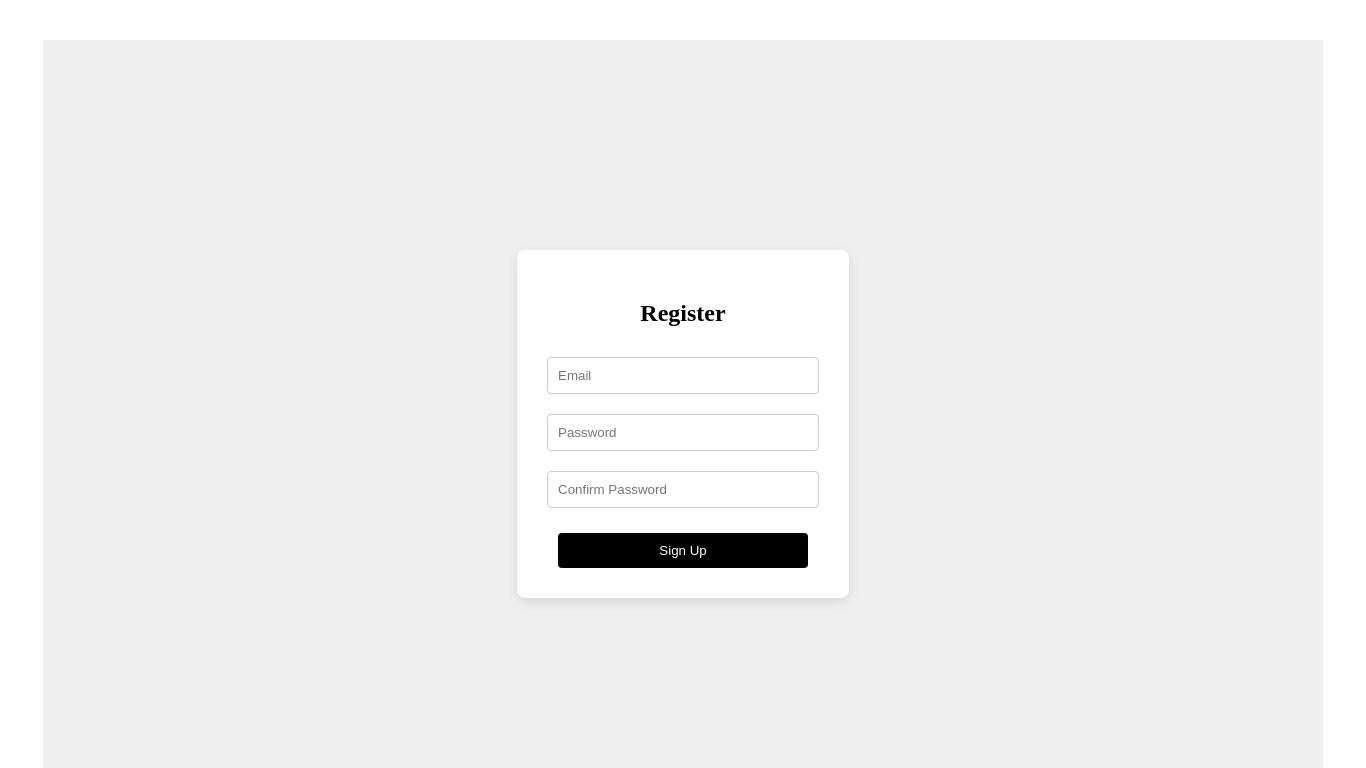
Test: Register Component › displays error message for server error
The image size is (1366, 768).
In the field with placeholder "Email": (683, 376) [547,357,819,394], type "existing@example.com"
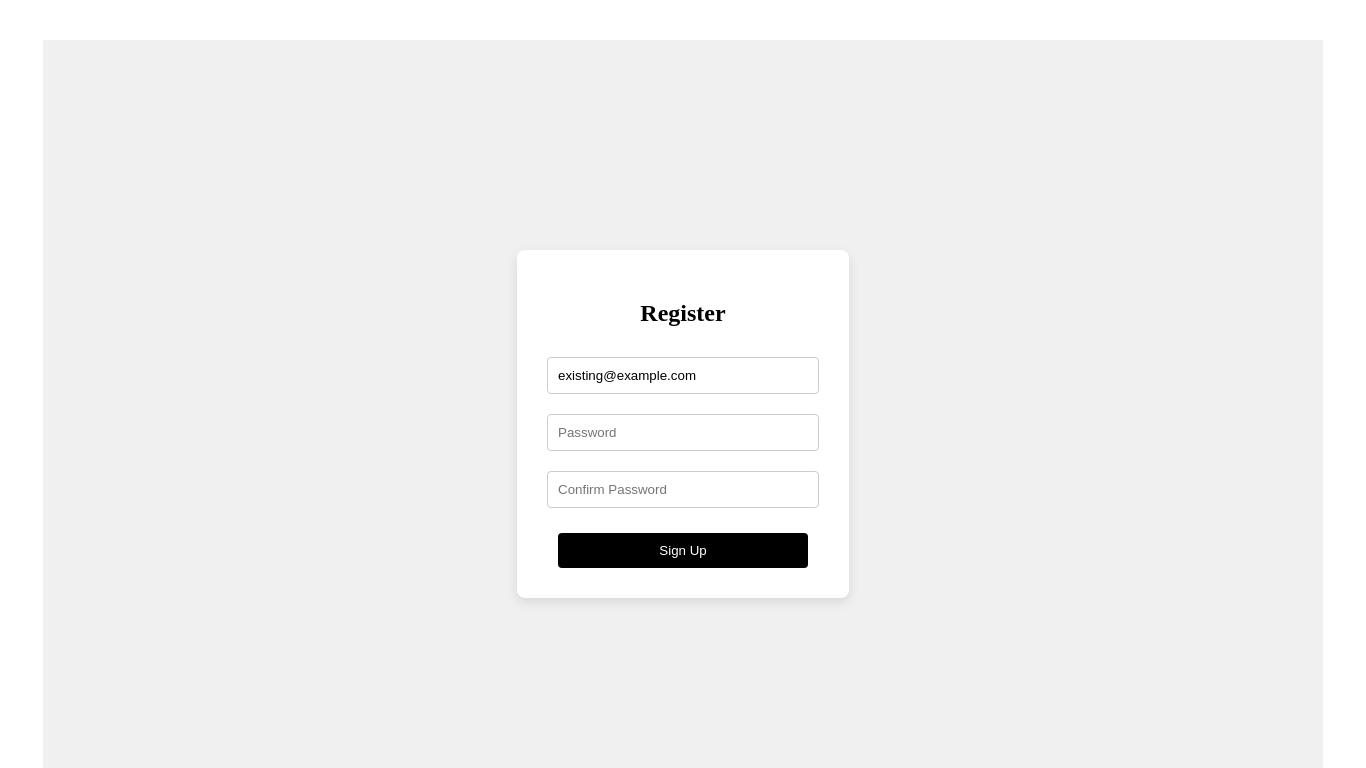
In the password field with placeholder "Password": (683, 432) [547,414,819,451], type "password123"
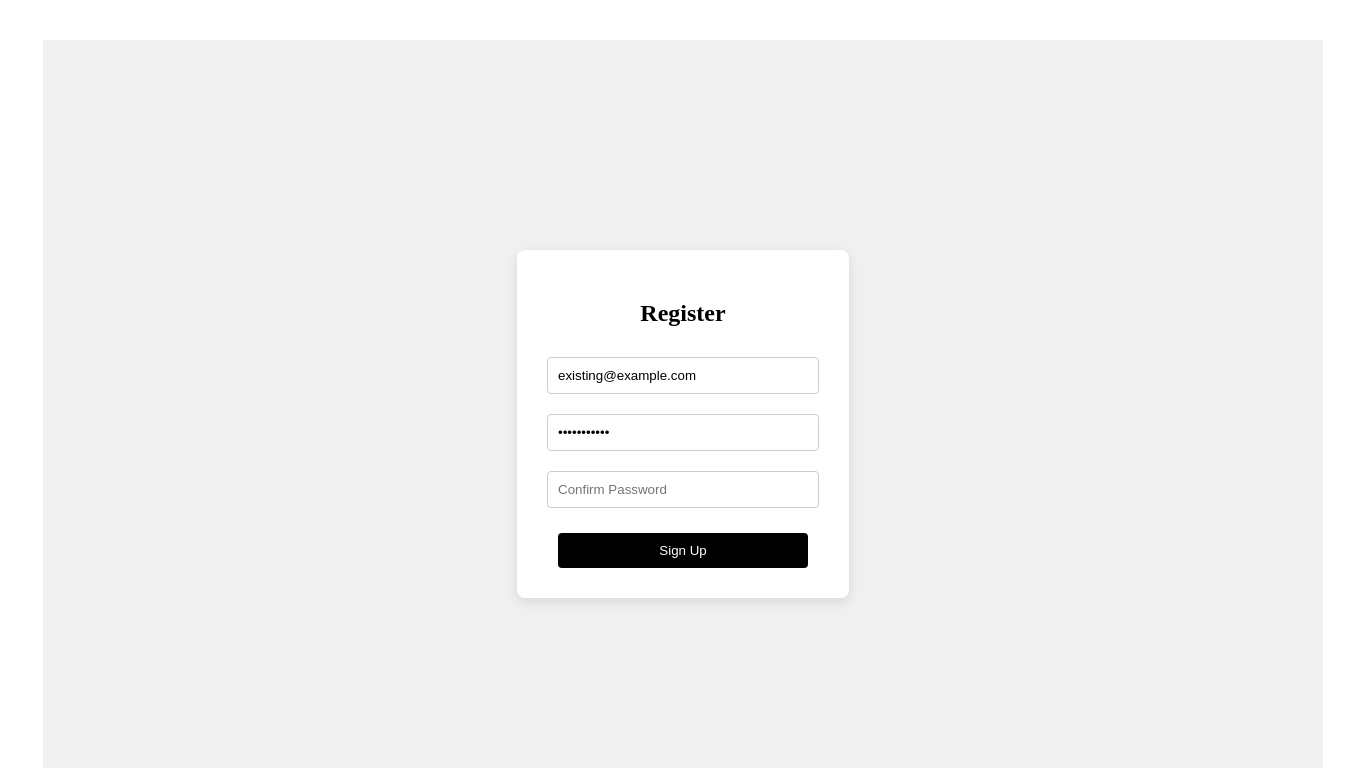
In the password field with placeholder "Confirm Password": (683, 490) [547,471,819,508], type "password123"
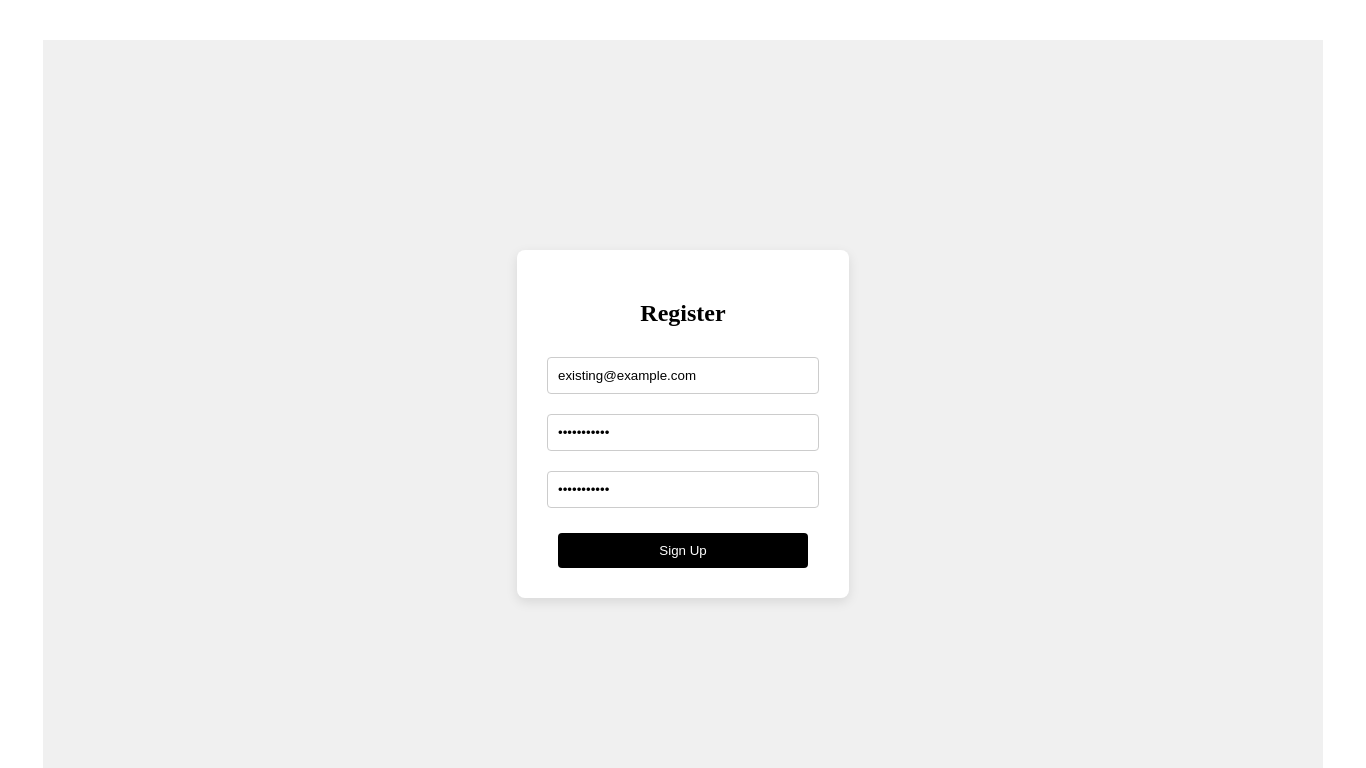
Click the button "Sign Up": (683, 550) [558,533,808,568]
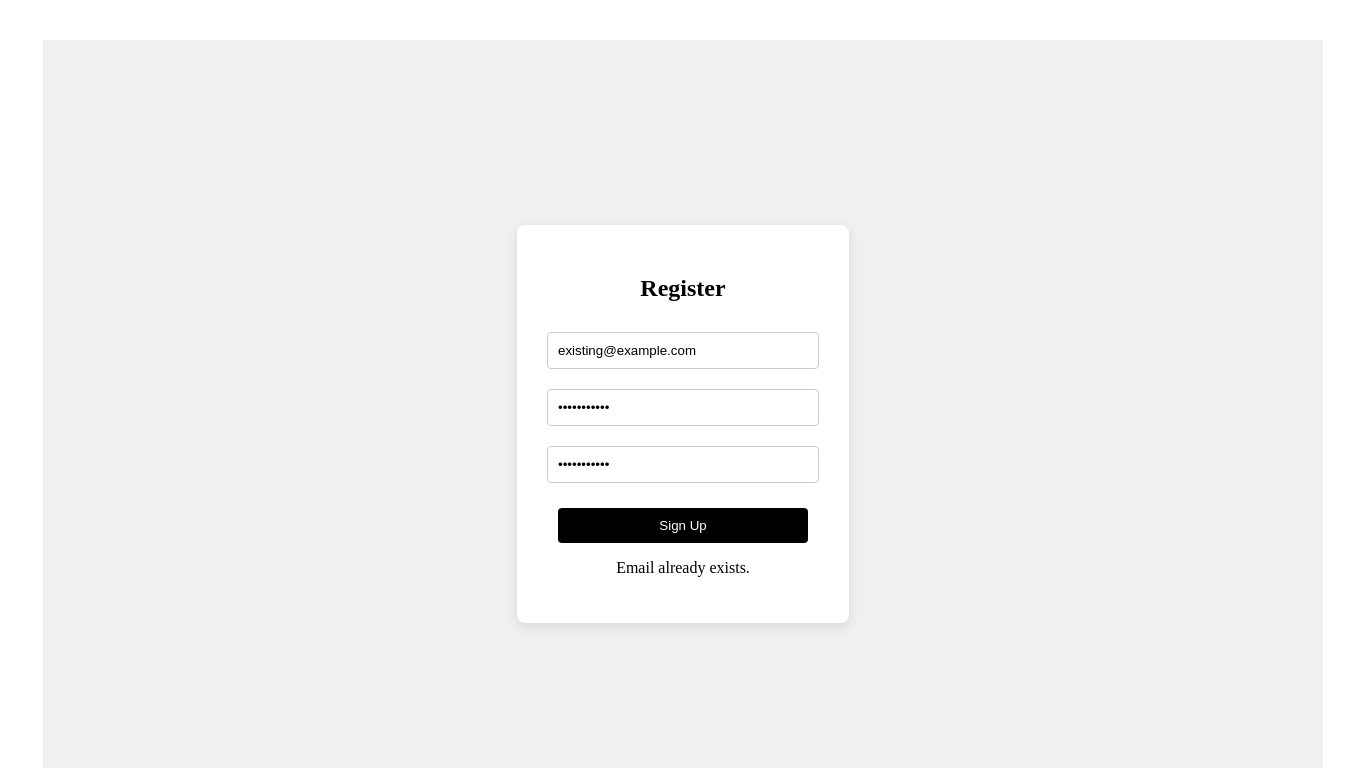
Expected: the text "Email already exists." is shown, [616,559,750,577]
